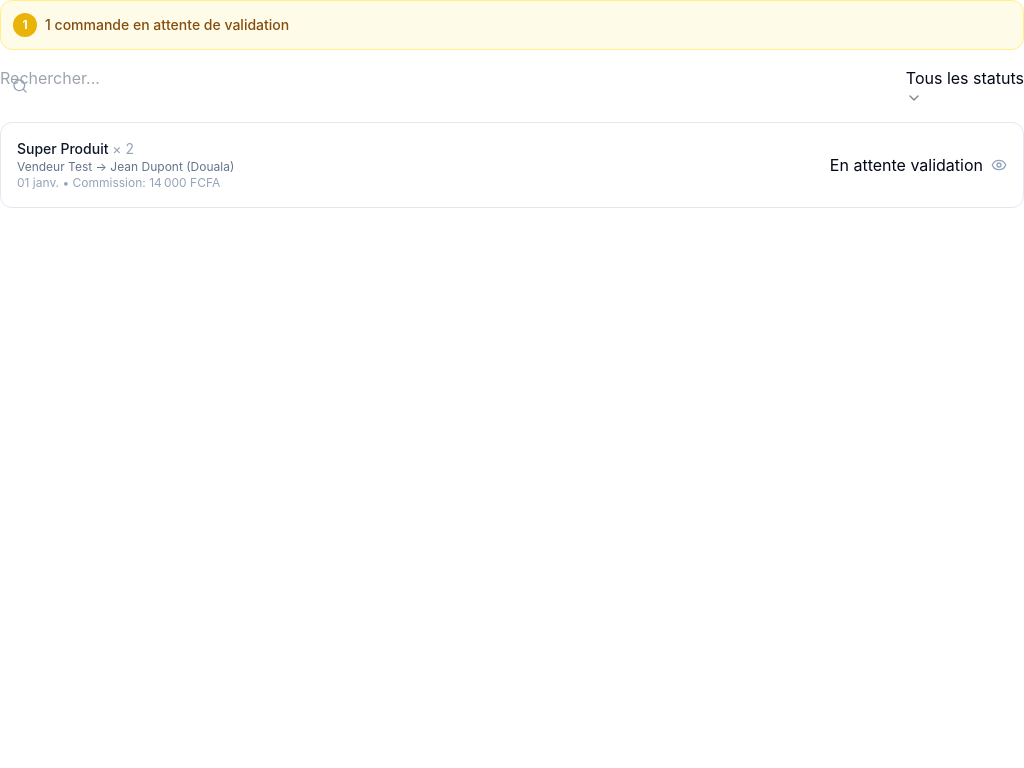
Test case: CommandesVendeurs — récapitulatif livraison dans le détail › affiche le badge 'Livraison en sus' et la ligne des frais de livraison
This screenshot has width=1024, height=768.
Click the text "Super Produit × 2".
click(75, 148)  # box [17,140,134,157]
(page scrolled)
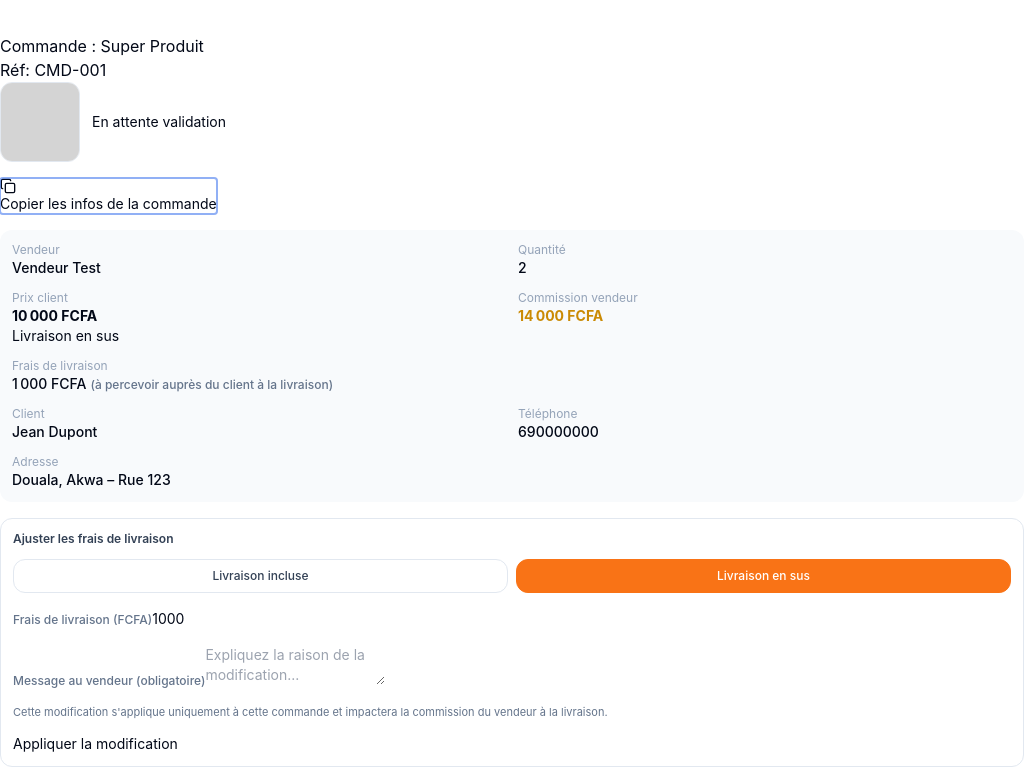
Check: the text "Livraison en sus" is shown, box [12,327,119,344]
Check: the text "Frais de livraison" is shown, box [12,358,108,373]
Check: the text "(à percevoir auprès du client à la livraison)" is shown, box [90,377,333,392]
